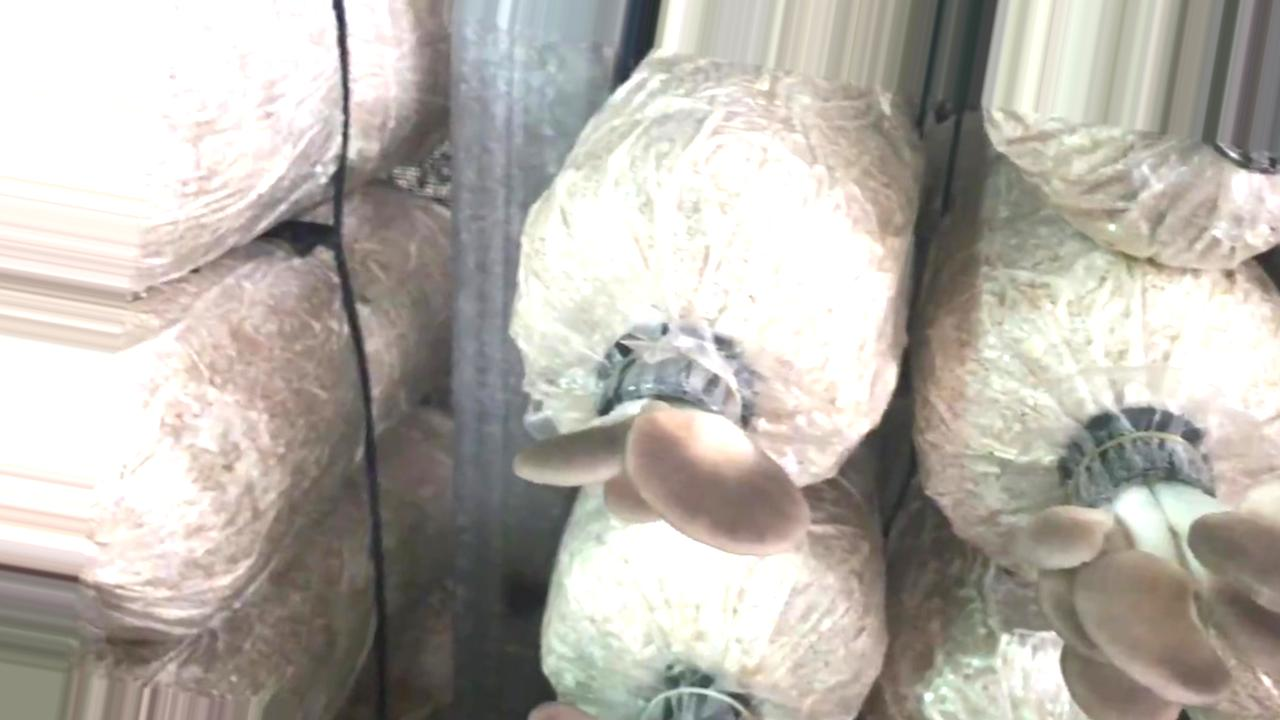nam: (1016, 417, 1276, 720), (517, 328, 813, 563)
